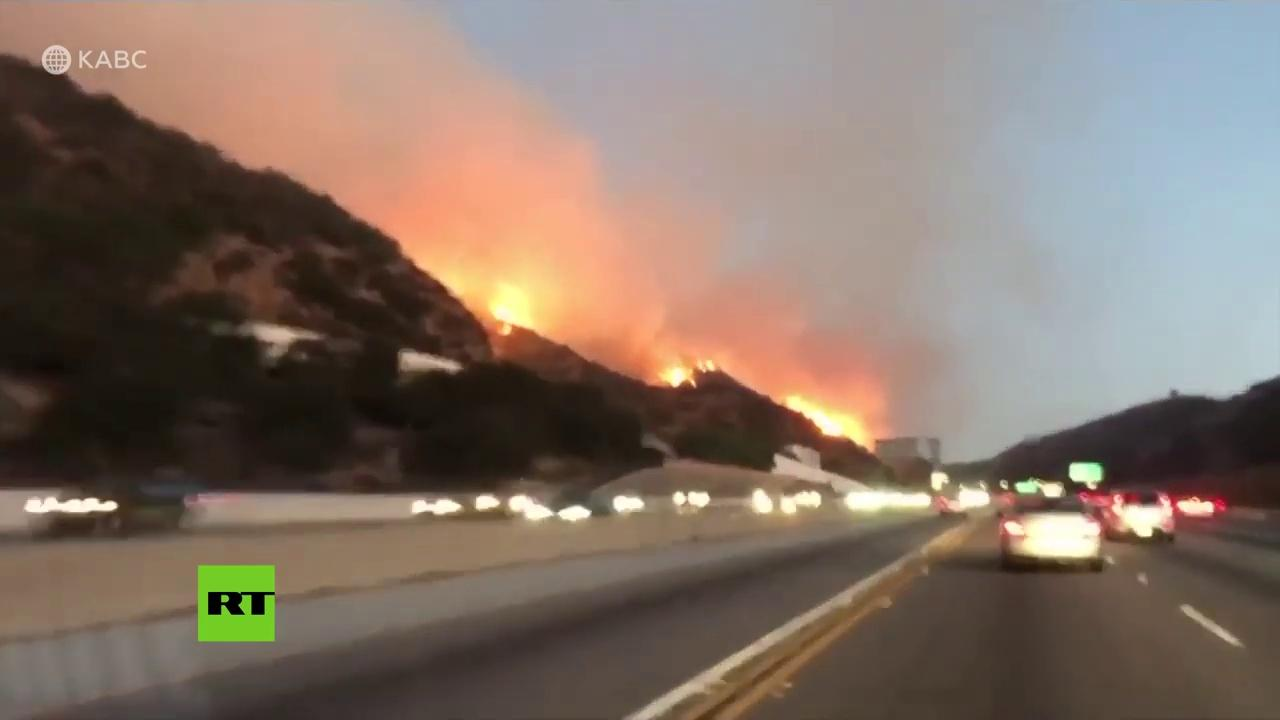Fire: (786, 394, 867, 447), (655, 352, 720, 393), (489, 282, 540, 330)
